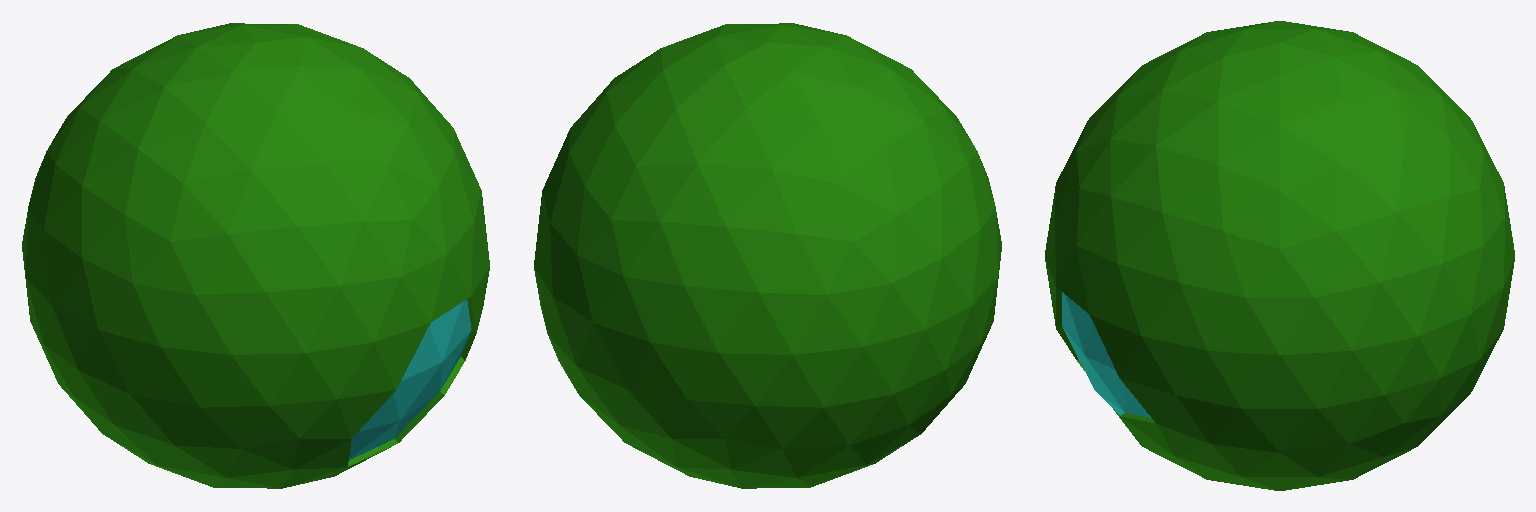
Rendered from glob.obj.
The picture shows the model from 3 angles: view 1: azimuth 30°, elevation 25°; view 2: azimuth 150°, elevation 25°; view 3: azimuth 270°, elevation 25°; orthographic projection.
Parts seen in each view (by area): view 1: Icosphere; view 2: Icosphere; view 3: Icosphere.
Part boxes in pixels (x1,y1,x2,y2): Icosphere: (22, 23, 489, 488); Icosphere: (534, 23, 1001, 488); Icosphere: (1045, 21, 1514, 490).
Bounding box in the file's own units: 1.87 × 1.87 × 1.87.